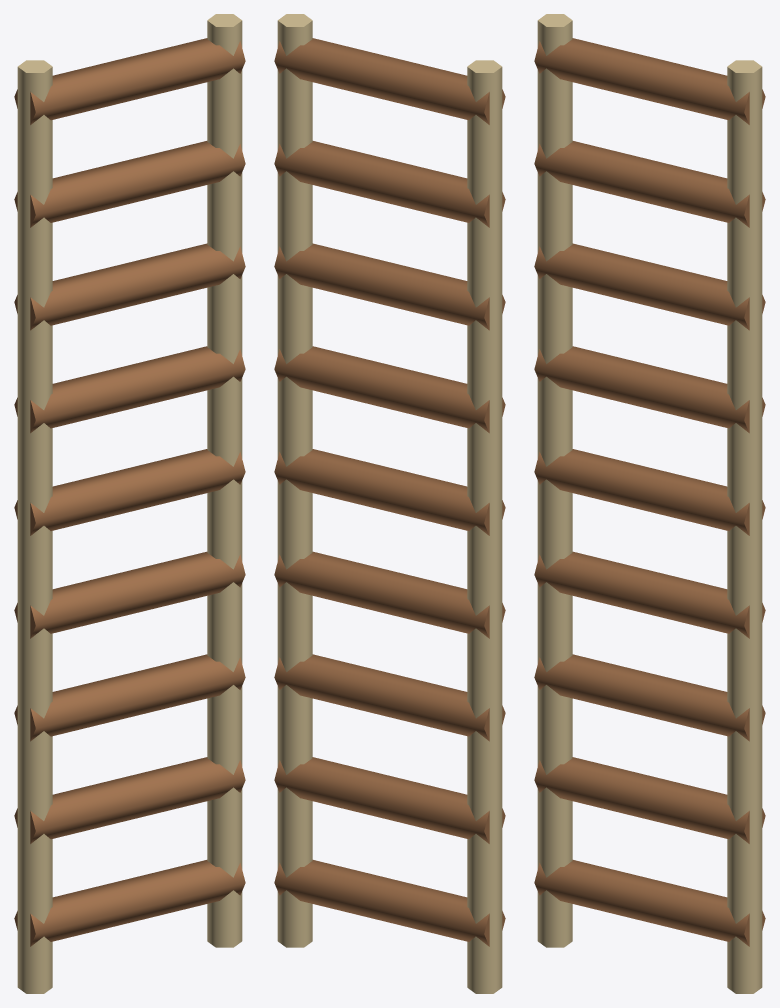
File: ladder.glb
3 views of the same model, side by side, from view 1: azimuth 30°, elevation 25°; view 2: azimuth 150°, elevation 25°; view 3: azimuth 330°, elevation 25° (orthographic).
Size of the model in its own units: 0.6379 by 2.6 by 0.11.
